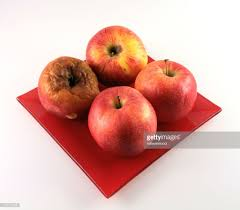apple: (93, 88, 170, 158), (140, 63, 202, 115), (85, 30, 153, 74)
damaged_apple: (34, 55, 106, 118)
